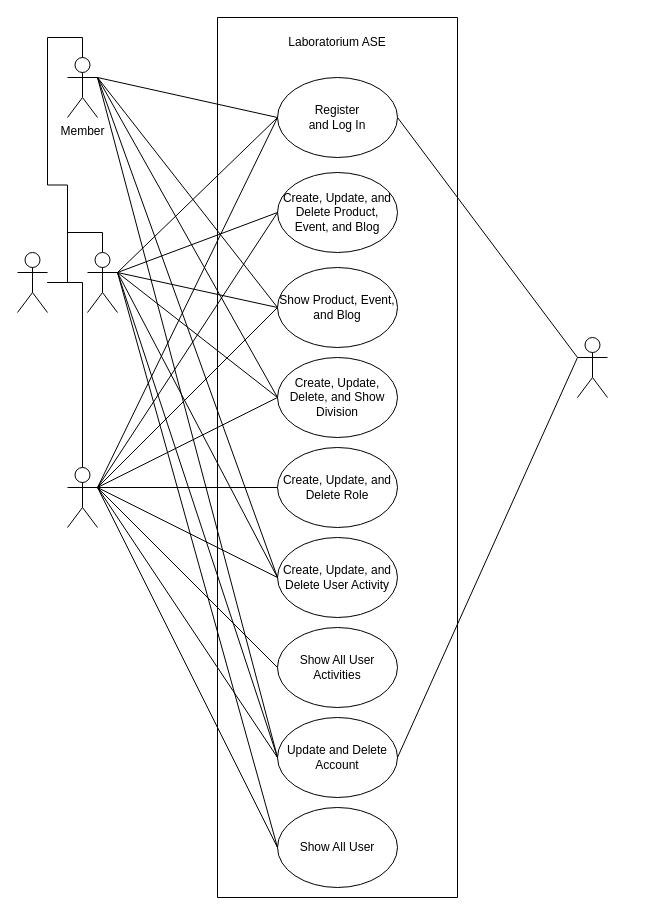
Image size: 669x915. Some labels were removed from this diagram. Here are the shapes that lost their labels. From the top down, the centre of each, then its label:
At point (32, 282): "User".
At point (102, 282): "Aslab".
At point (592, 367): "Authentication Service".
At point (82, 497): "Pembina Lab".
